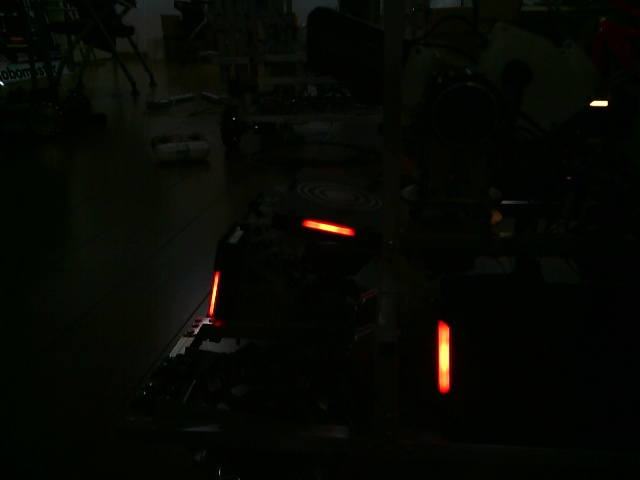lamp: (433, 319, 454, 395), (209, 267, 221, 325)
